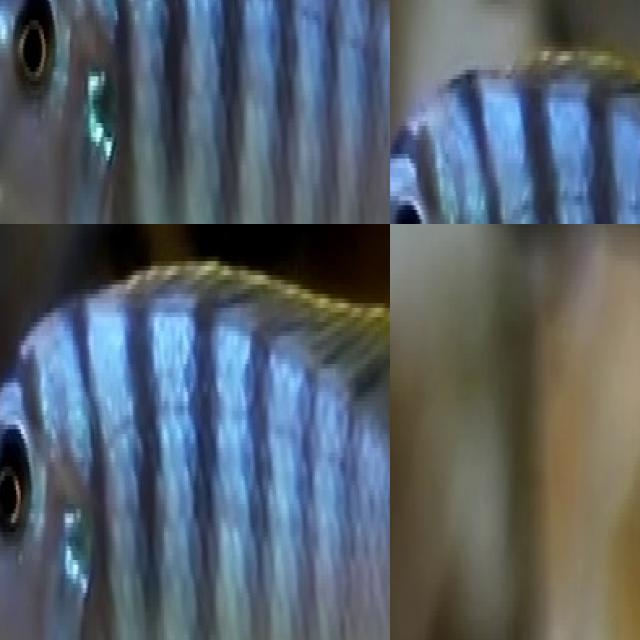fish: (0, 247, 390, 640), (0, 0, 390, 224), (390, 32, 640, 224)
